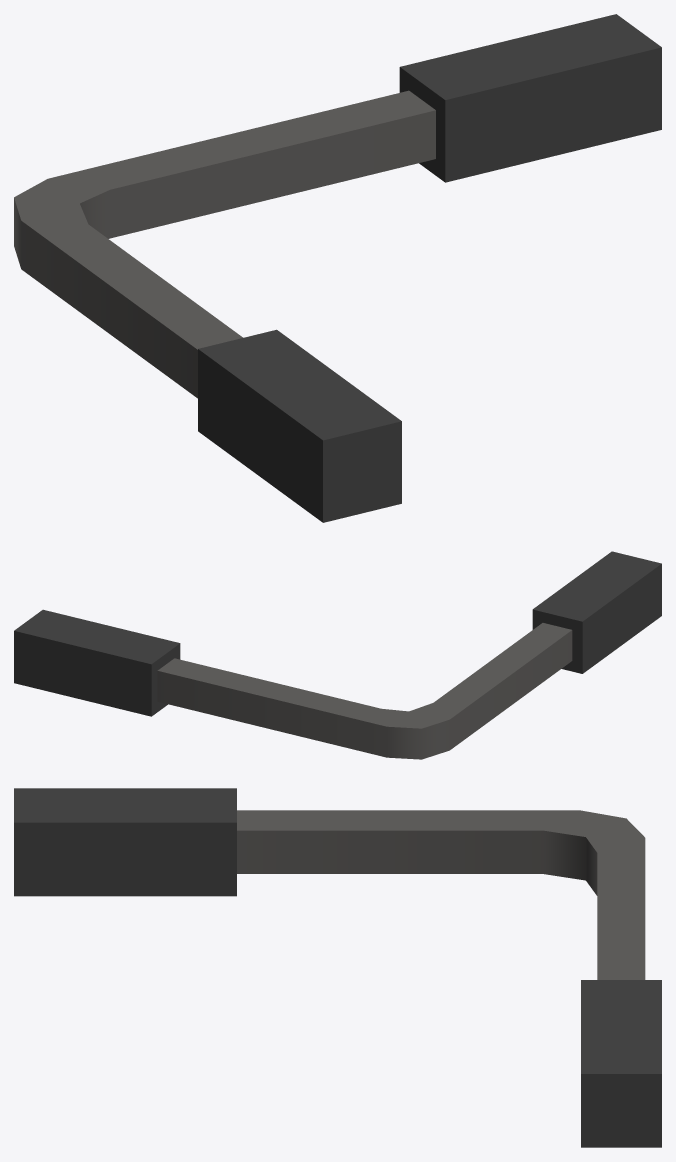
The model's file is Cable_A_2_2.fbx.
The picture shows the model from 3 angles, top to bottom: view 1: azimuth 30°, elevation 25°; view 2: azimuth 150°, elevation 25°; view 3: azimuth 270°, elevation 25°; orthographic projection. The views are drawn at different scales.
Visible parts, largest first — view 1: Cable_A_2_2; view 2: Cable_A_2_2; view 3: Cable_A_2_2.
Part boxes in pixels (x1,y1,x2,y2): Cable_A_2_2: [14, 14, 661, 522]; Cable_A_2_2: [14, 551, 661, 759]; Cable_A_2_2: [14, 788, 661, 1147].
Bounding box in the file's own units: 81.88 × 9.83 × 78.5.
